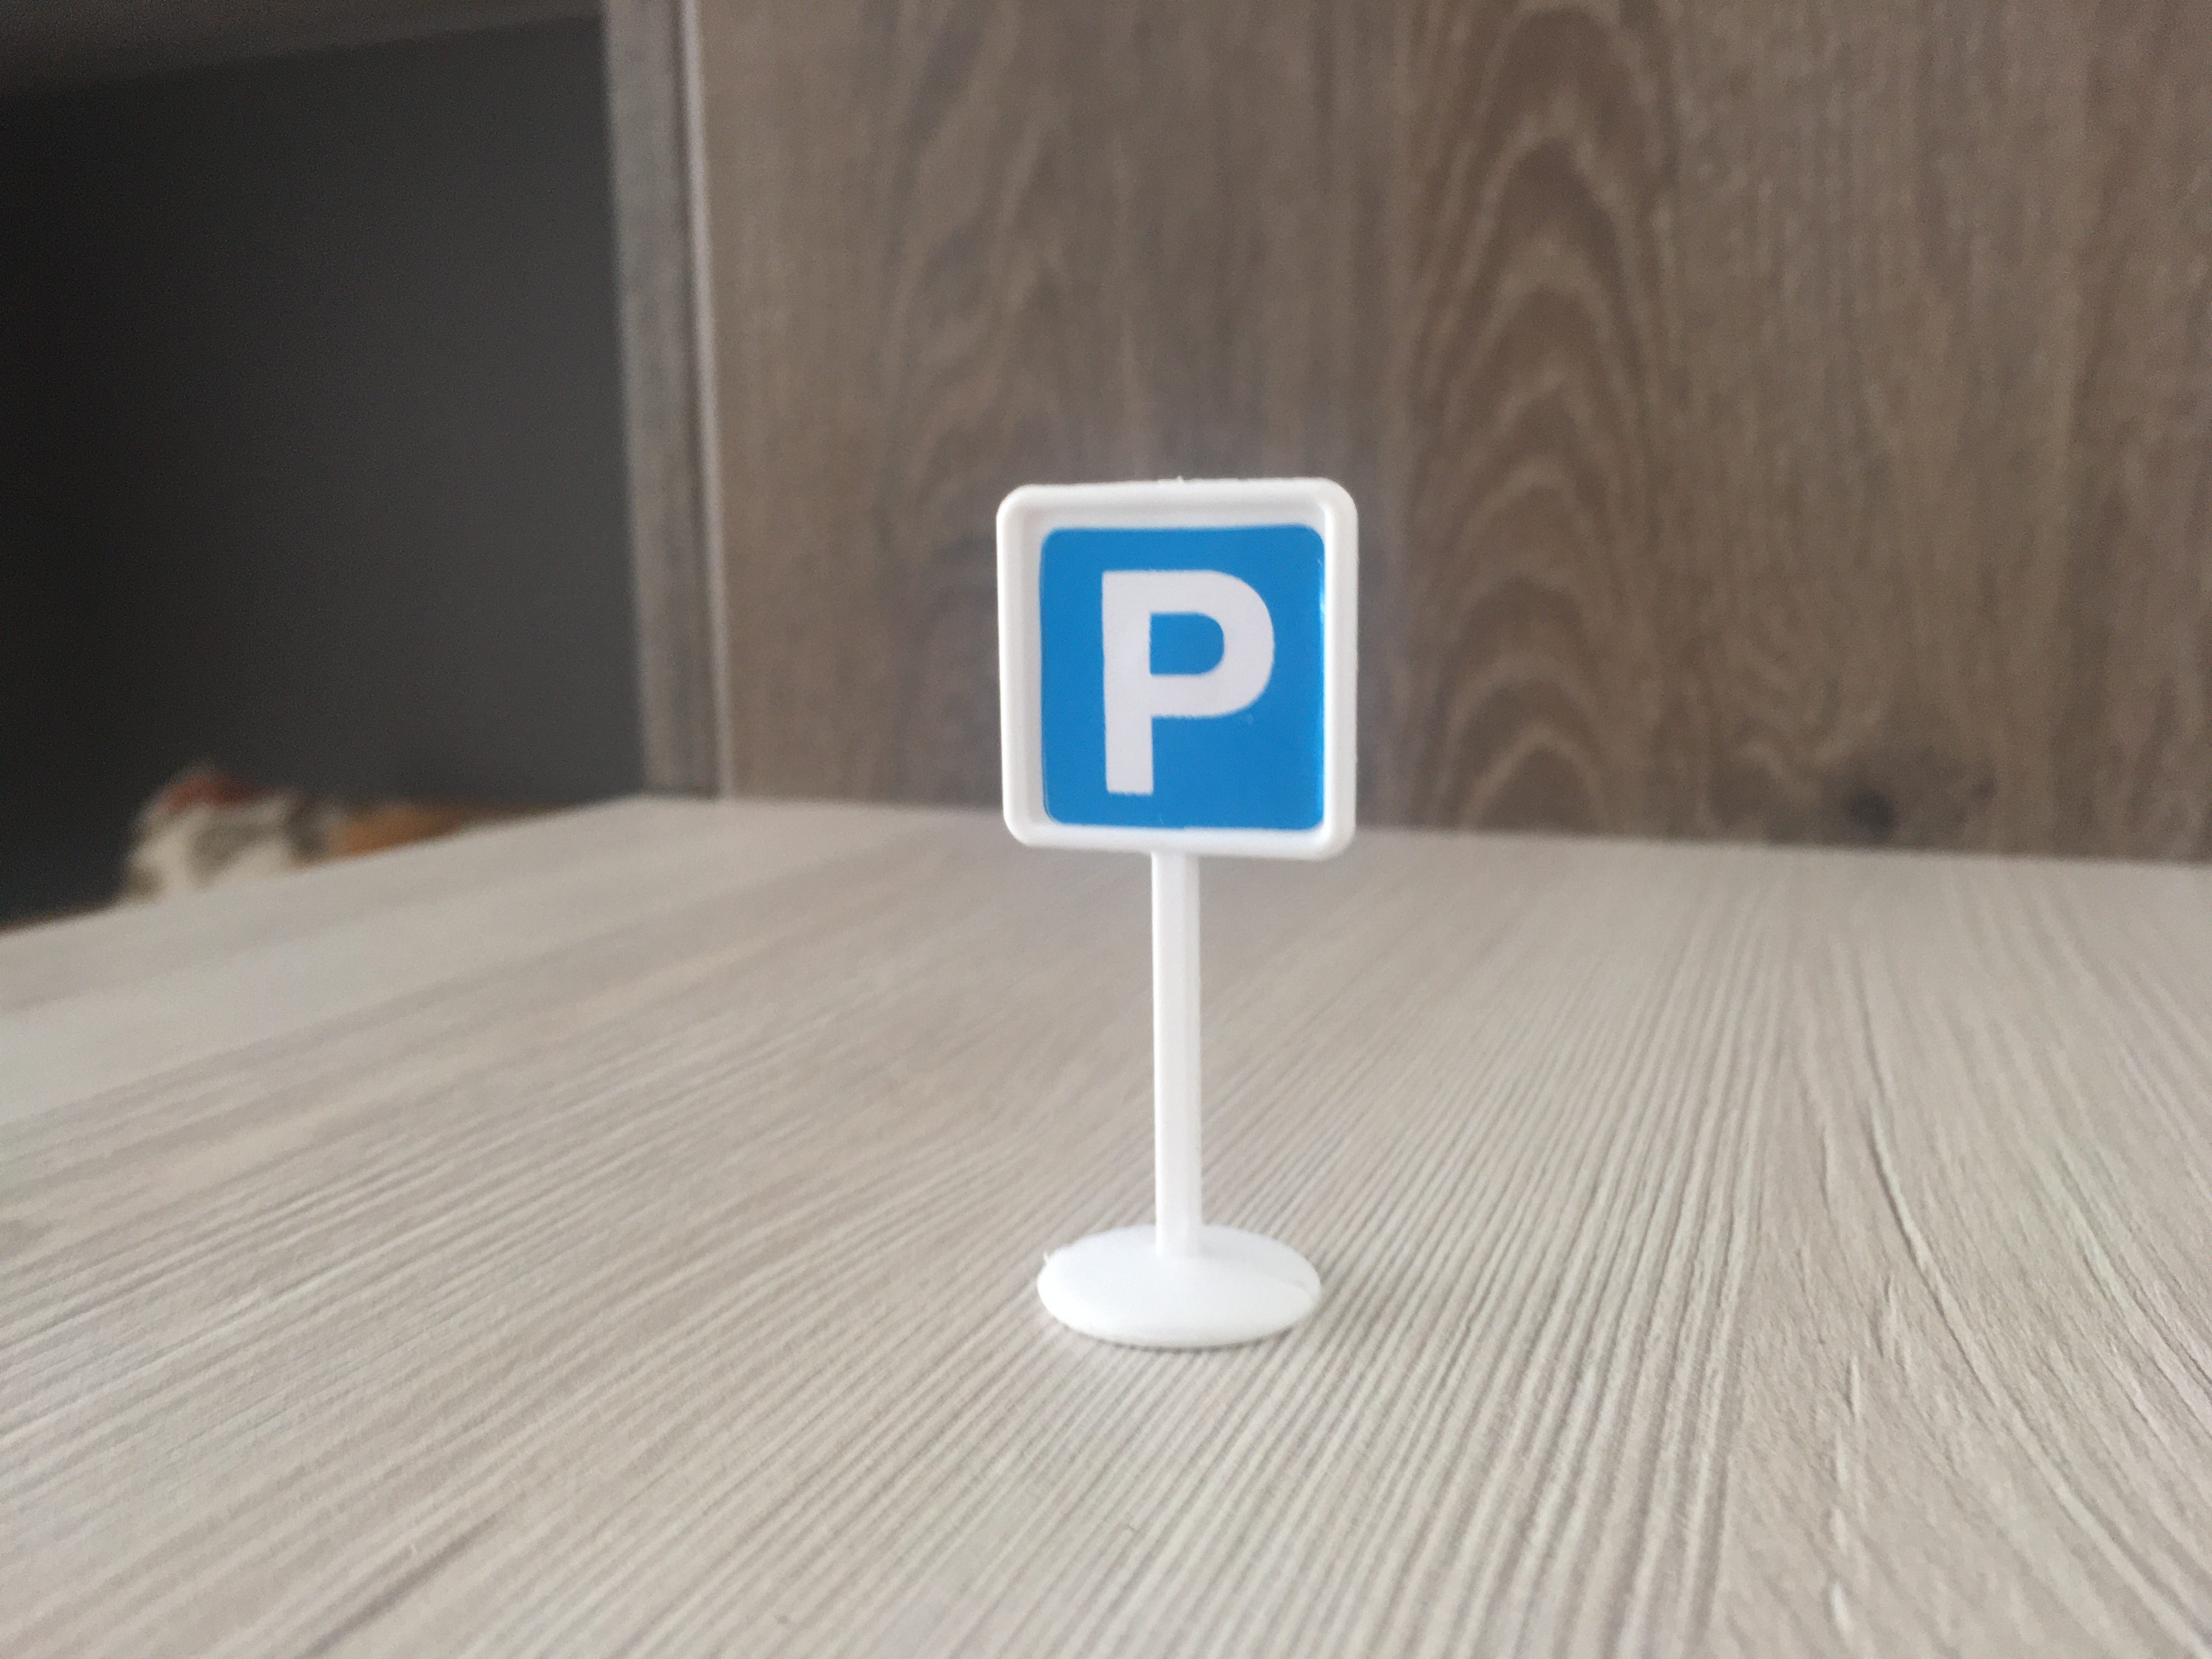parking: (986, 476, 1362, 868)
